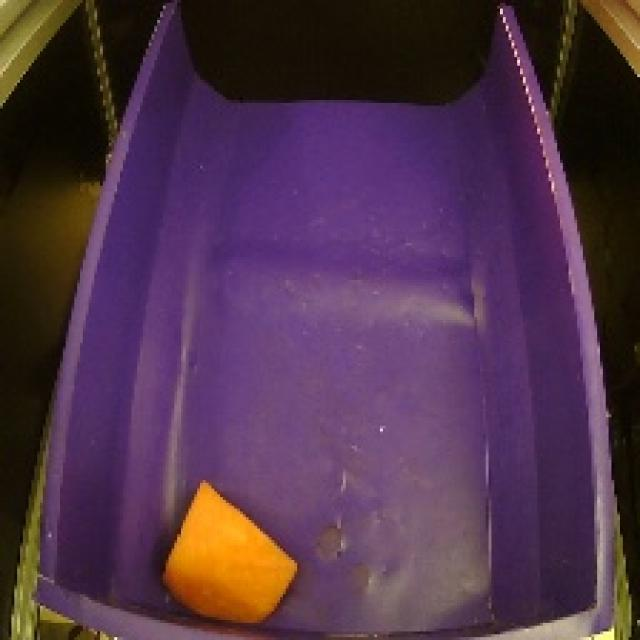carrots: (147, 476, 303, 632)
